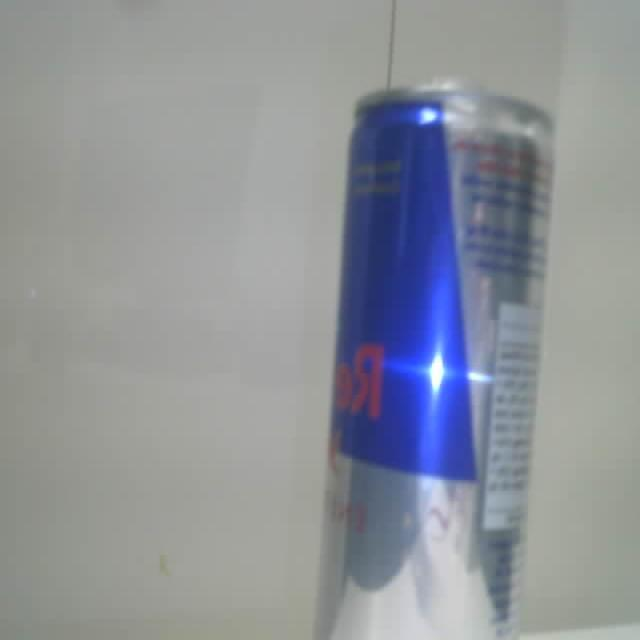redbull can: (315, 84, 551, 639)
